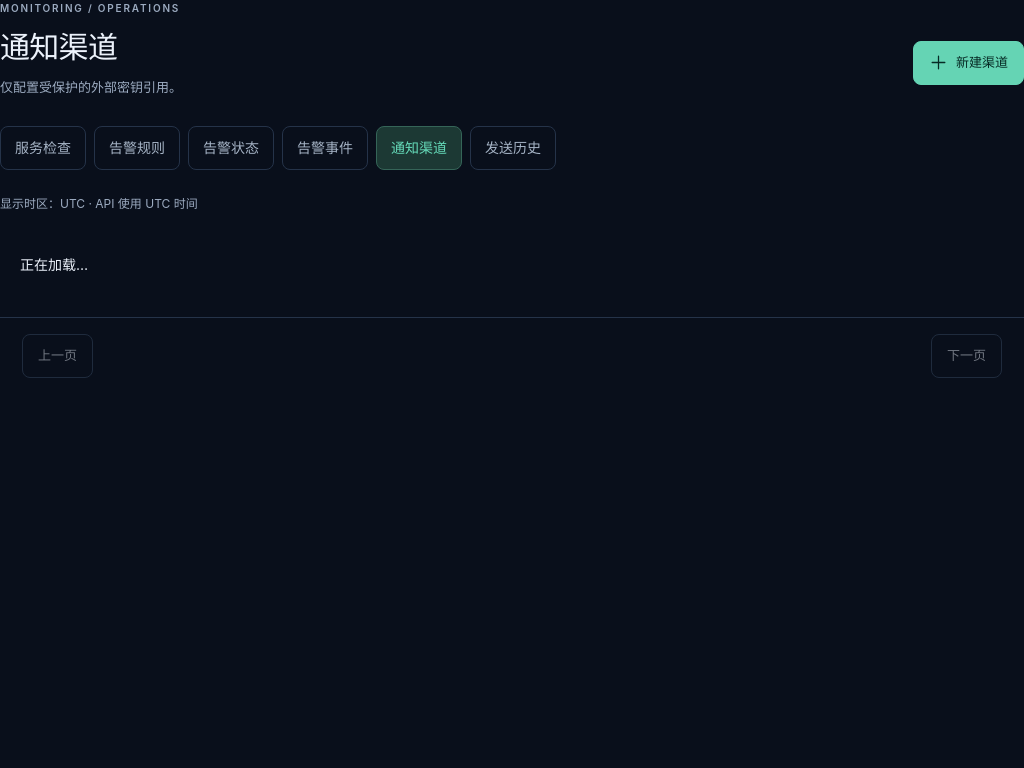
channel editor accepts only external reference and never browser secrets
Step 1. Click the button "新建渠道" → coordinates (968, 63), box [913,41,1023,85]
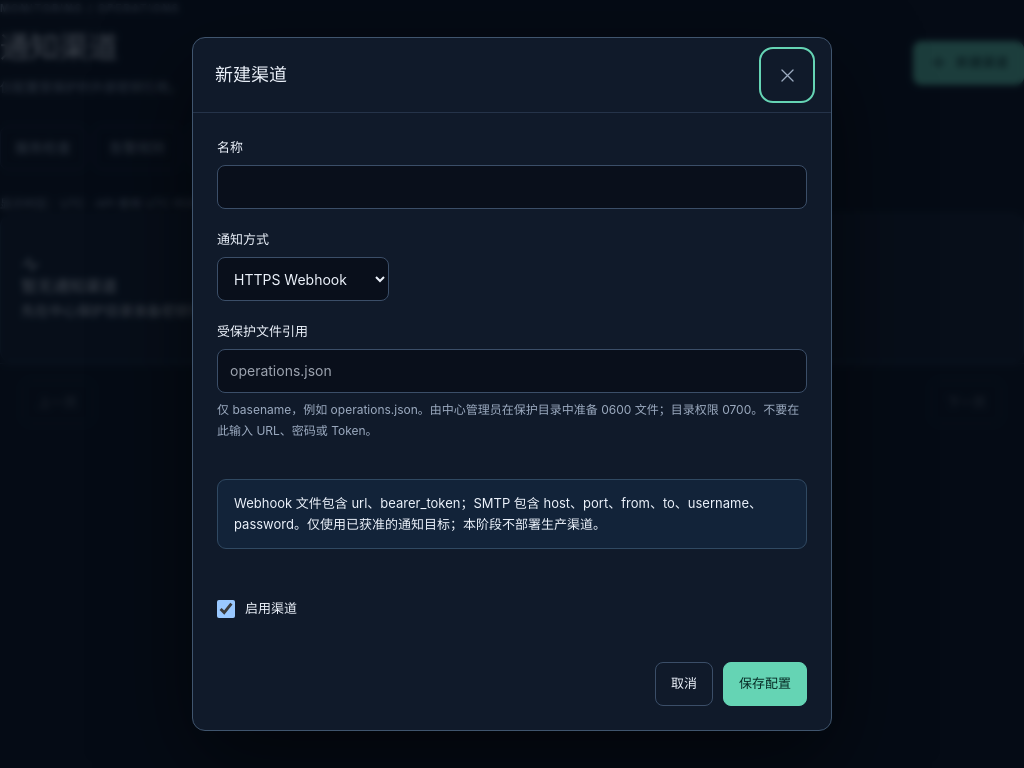
Result: the field labelled "受保护文件引用" is shown at [217,349,807,393]
